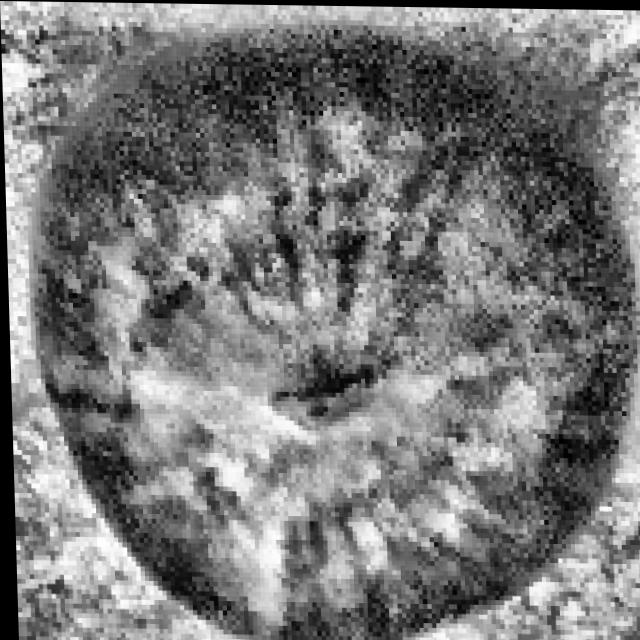qualityHazelnut: (4, 0, 640, 640)
